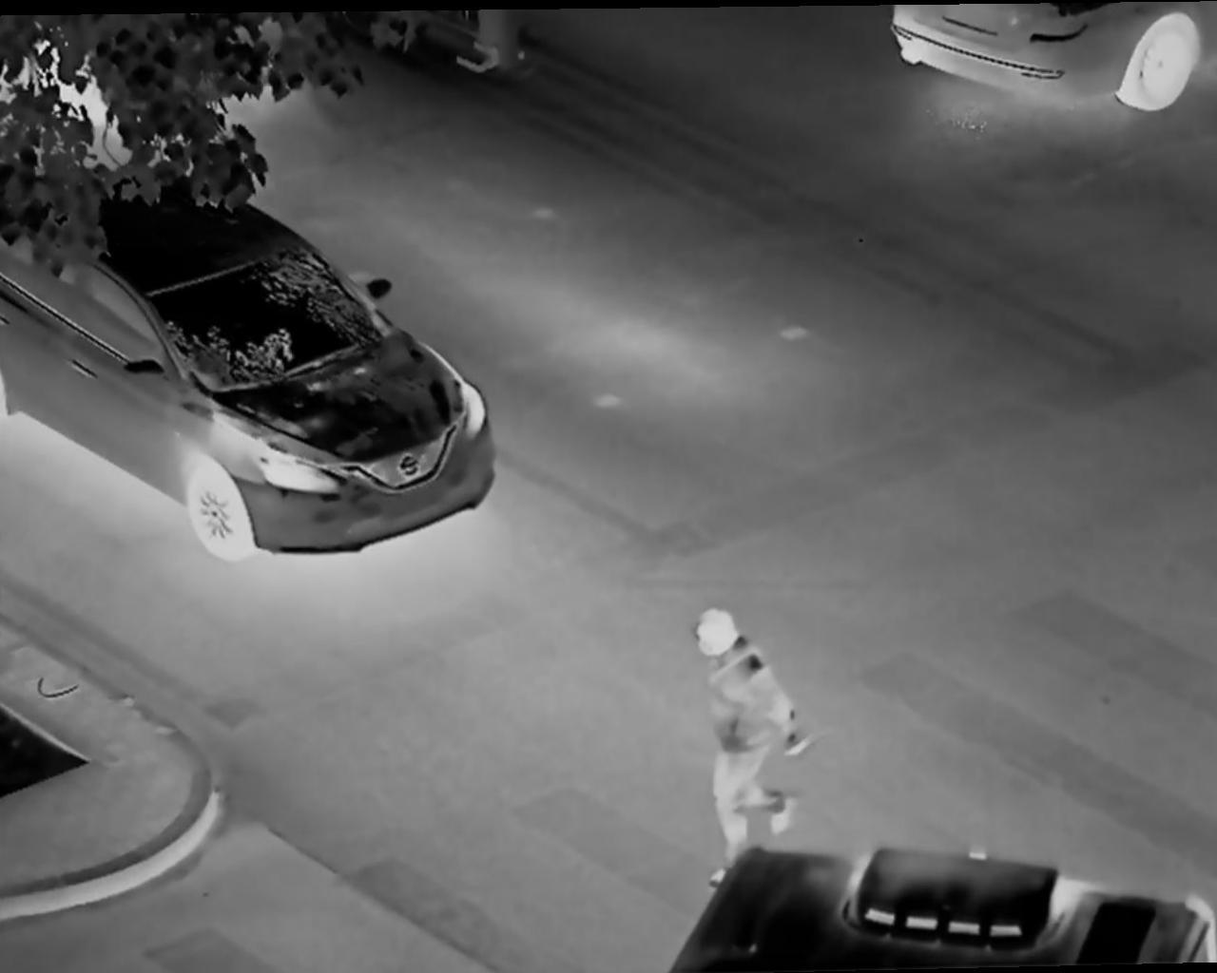person: (684, 601, 825, 864)
